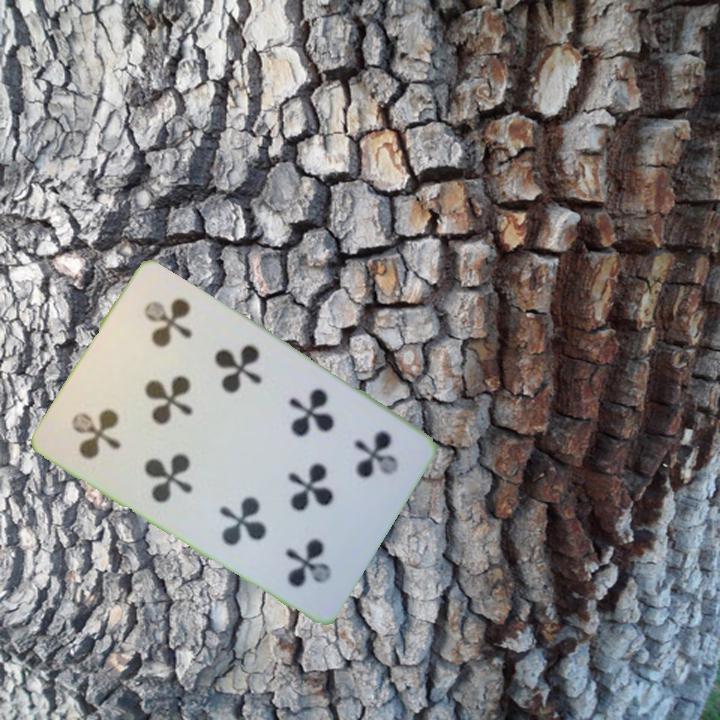c_10.png: (298, 399, 422, 527), (48, 357, 171, 485)
